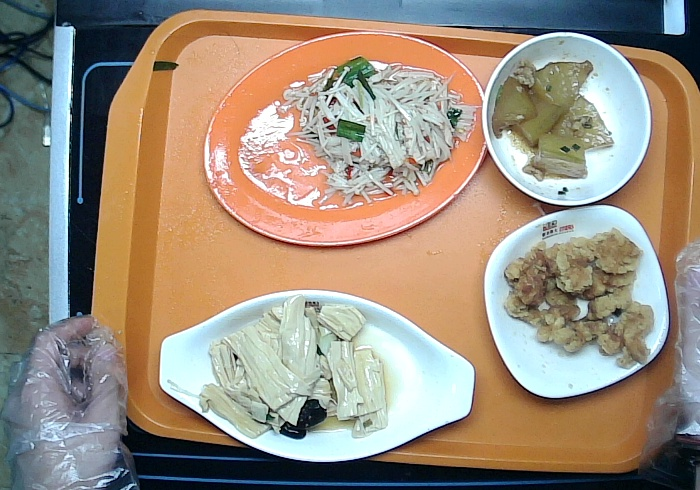NLDX-Bai_Se_Xiao_Fang_Die: (483, 204, 671, 398)
NLDX-Fan_Wan: (481, 32, 653, 207)
NLDX-Ju_Se_Pan: (202, 31, 489, 246)
NLDX-Yu_Pan: (157, 289, 476, 463)
